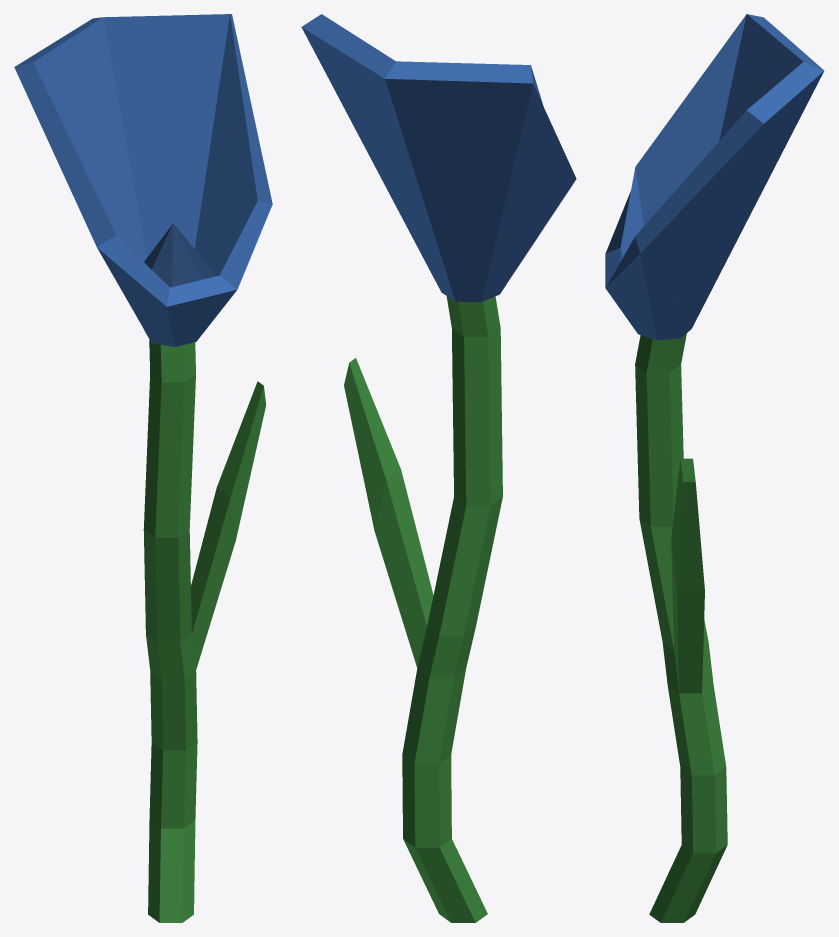
The model's file is Flower_5_Blue.fbx.
3 views of the same model, side by side, from view 1: azimuth 30°, elevation 25°; view 2: azimuth 150°, elevation 25°; view 3: azimuth 270°, elevation 25° (orthographic). The views are drawn at different scales.
Parts seen in each view (by area): view 1: Flower_5_Blue_Part_2, Flower_5_Blue_Part_1, Flower_5_Blue_Part_3; view 2: Flower_5_Blue_Part_2, Flower_5_Blue_Part_1; view 3: Flower_5_Blue_Part_2, Flower_5_Blue_Part_1.
Boxes of the visible parts, x1,y1,x2,y2 form: Flower_5_Blue_Part_2: (14, 14, 272, 346); Flower_5_Blue_Part_1: (143, 339, 265, 922); Flower_5_Blue_Part_3: (144, 223, 216, 287); Flower_5_Blue_Part_2: (301, 14, 576, 302); Flower_5_Blue_Part_1: (344, 296, 502, 922); Flower_5_Blue_Part_2: (605, 14, 824, 340); Flower_5_Blue_Part_1: (635, 333, 727, 922).
Bounding box in the file's own units: 10.95 × 40.82 × 9.51.
